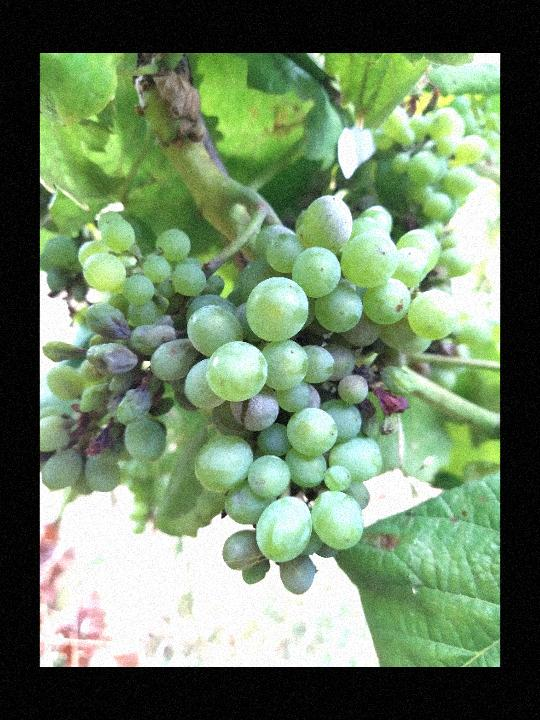grape: (63, 191, 460, 595)
